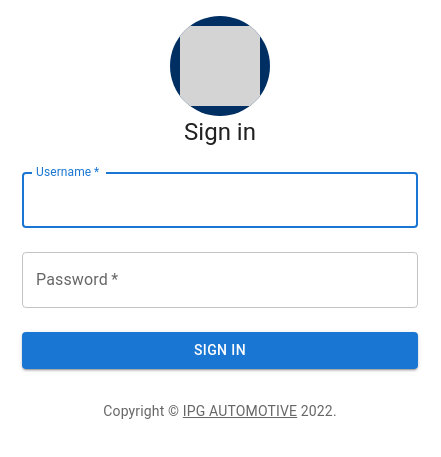
Test case: Login page › should view error message for wrong credentials
Type "username" into the field with id "username" at (220,200), box left=22, top=172, right=418, bottom=228
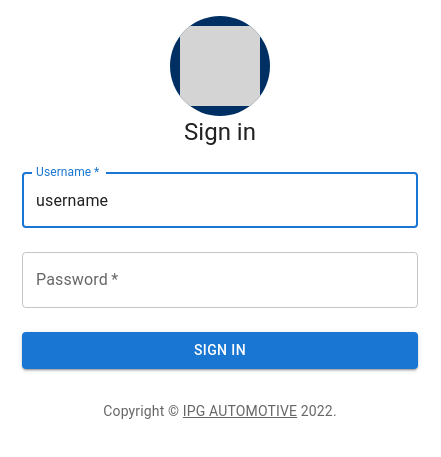
Type "password" into the password field labelled "Password *" at (220,280), box left=22, top=252, right=418, bottom=308
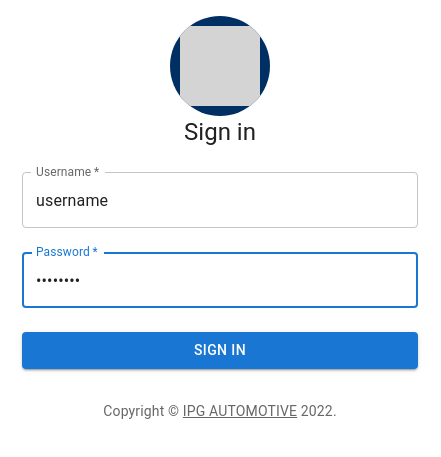
Click the button with id "loginBtn" at (220,351), box left=22, top=332, right=418, bottom=369
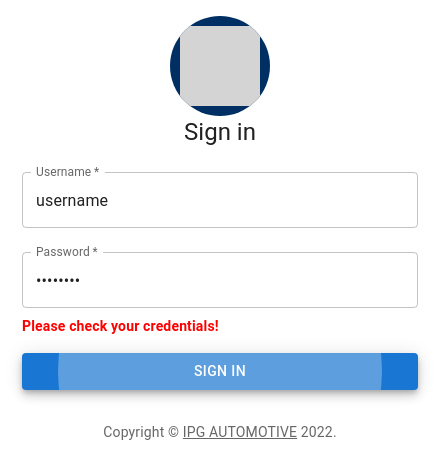
Check: the text with id "errorMessage" reads "Please check your credentials!", box left=22, top=318, right=219, bottom=334
